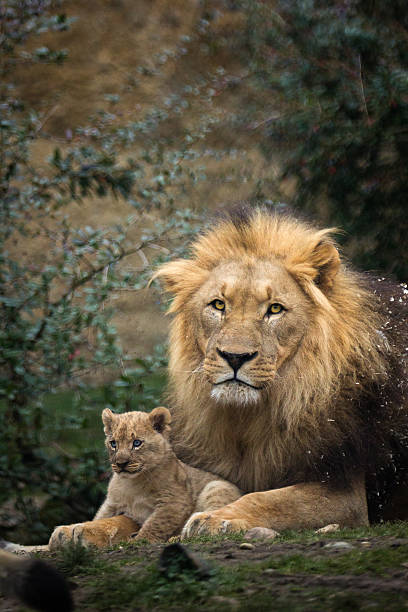lion: (120, 191, 403, 488)
